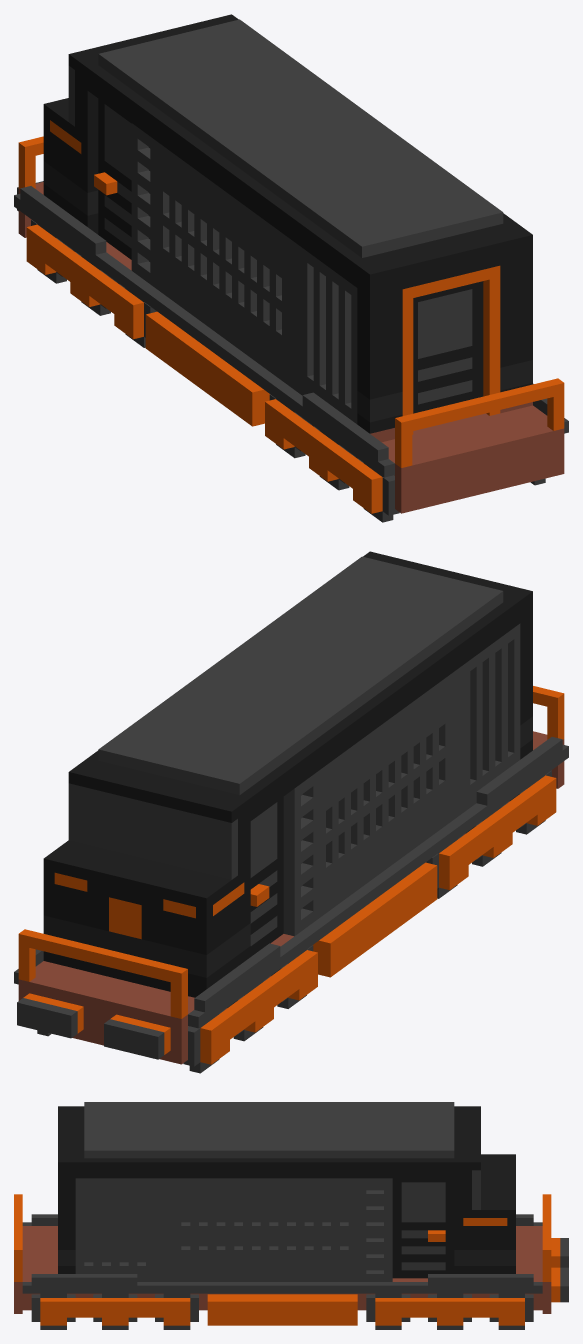
Rendered from veh_train2.obj.
The picture shows the model from 3 angles, top to bottom: view 1: azimuth 30°, elevation 25°; view 2: azimuth 150°, elevation 25°; view 3: azimuth 270°, elevation 25°; orthographic projection. The views are drawn at different scales.
Bounding box in the file's own units: 17 × 22 × 63.
